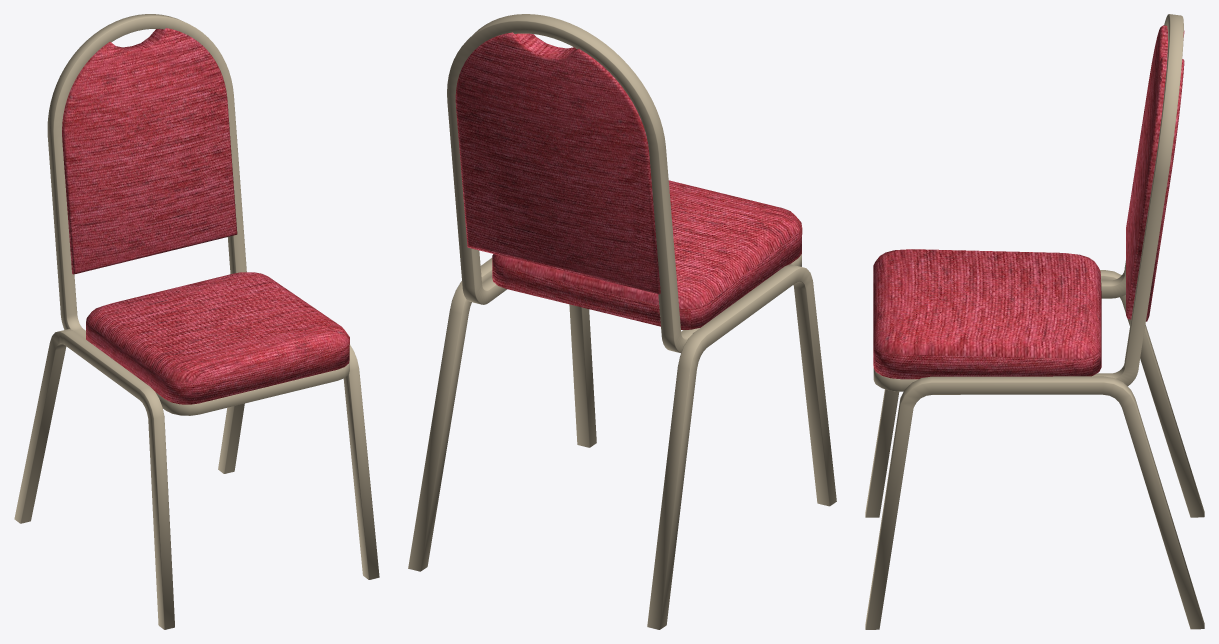
The model's file is chair2.glb.
3 renders of one model, left to right at view 1: azimuth 30°, elevation 25°; view 2: azimuth 150°, elevation 25°; view 3: azimuth 270°, elevation 25°, orthographic. The views are drawn at different scales.
Visible parts, largest first — view 1: chaise, structure; view 2: chaise, structure; view 3: chaise, structure.
Part boxes in pixels (<box>): chaise: <box>62,28,349,404</box>; structure: <box>14,14,379,629</box>; chaise: <box>455,32,802,329</box>; structure: <box>408,14,836,629</box>; chaise: <box>873,25,1184,379</box>; structure: <box>865,14,1204,629</box>.
Bounding box in the file's own units: 0.403 × 0.8682 × 0.4889.
2 materials, 1 textured.
